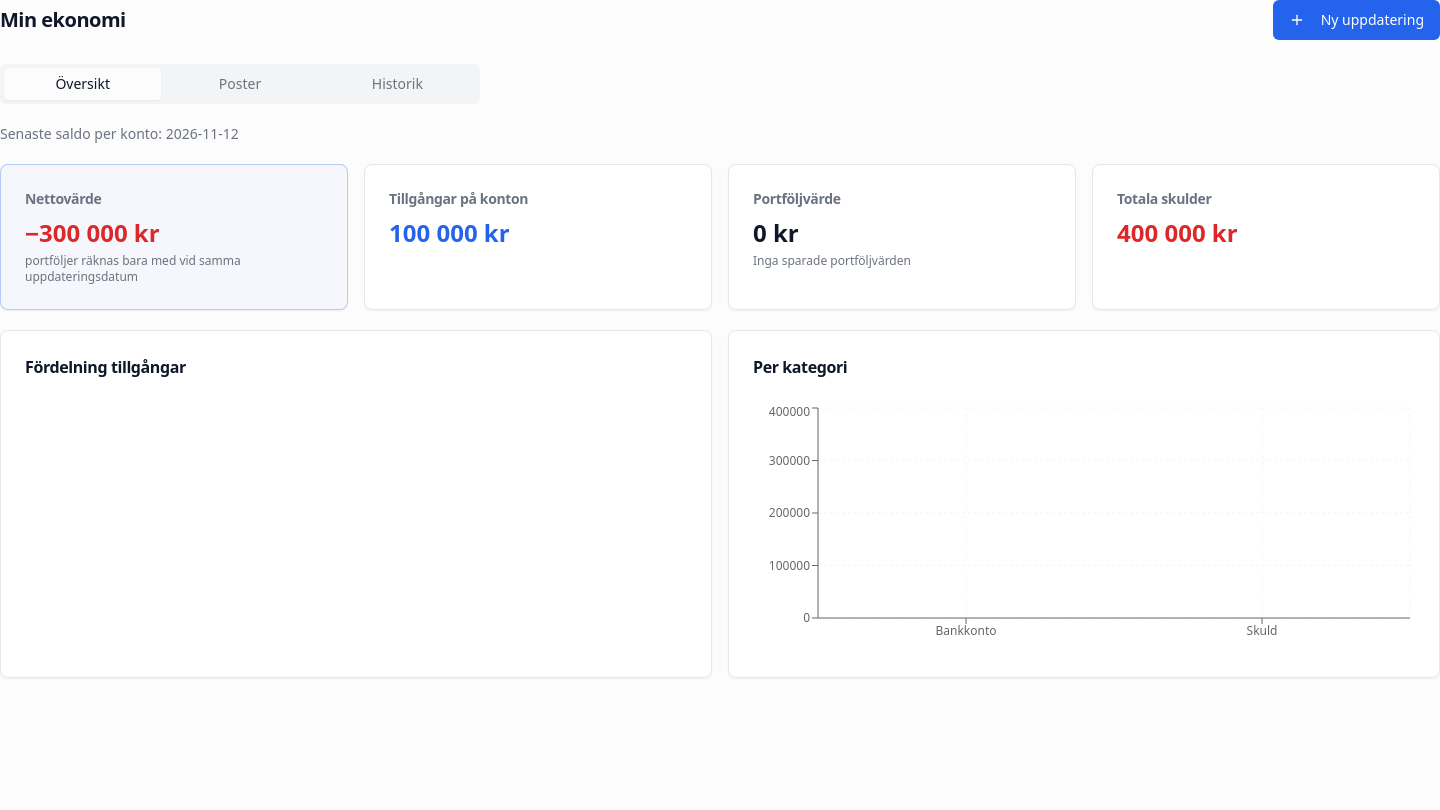
it: EconomyOverview workflows › updates saved balances in one dated batch and stores debts as negative values
The width and height of the screenshot is (1440, 810).
Later steps or results of the test are not shown.
Expected: the text "Nettovärde" is shown, [25, 189, 101, 208]
Click the button "Ny uppdatering" at (1356, 20), box [1273, 0, 1439, 40]
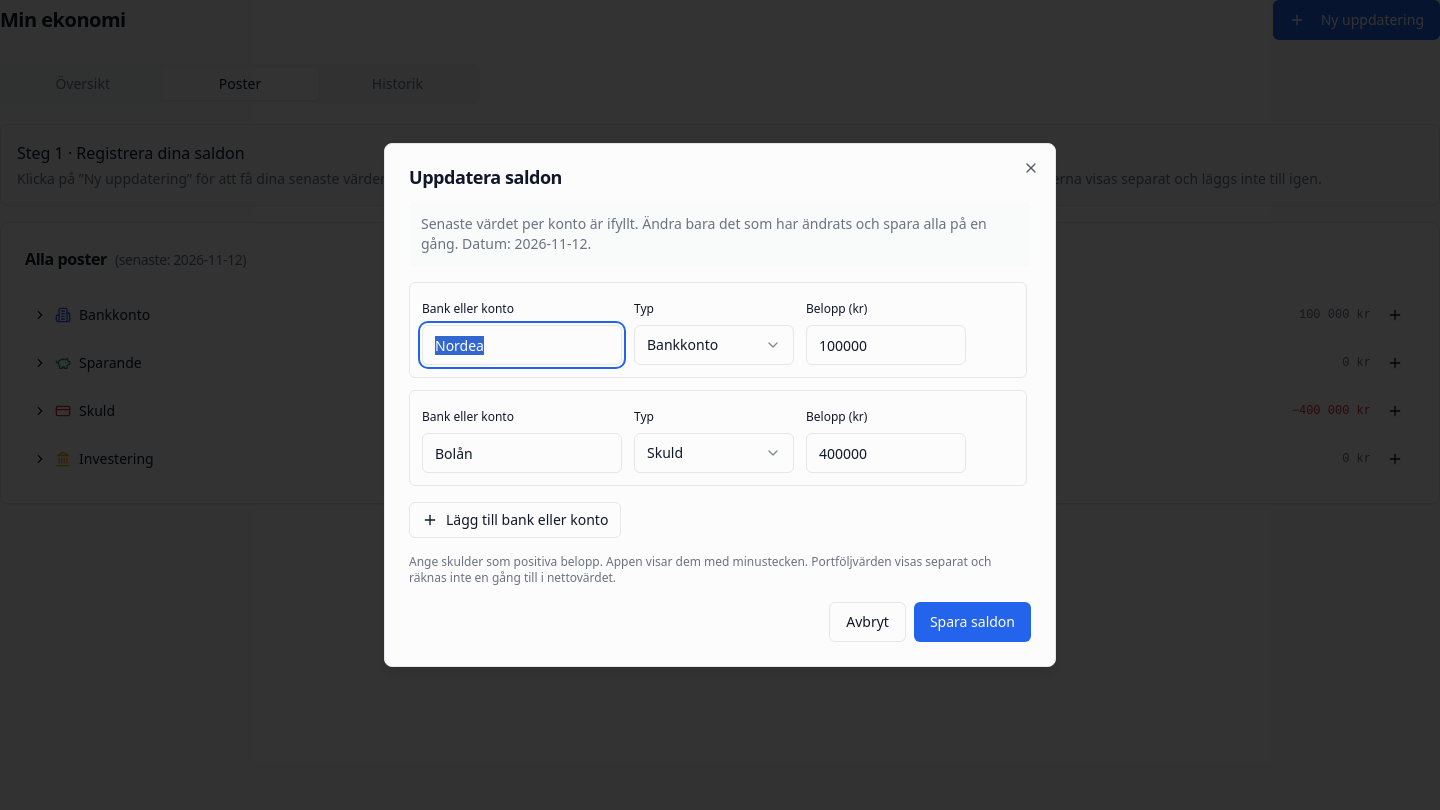
Expected: the 1st field labelled "Belopp (kr)" holds "100000", [806, 325, 966, 365]
Expected: the 2nd field labelled "Belopp (kr)" holds "400000", [806, 433, 966, 473]
